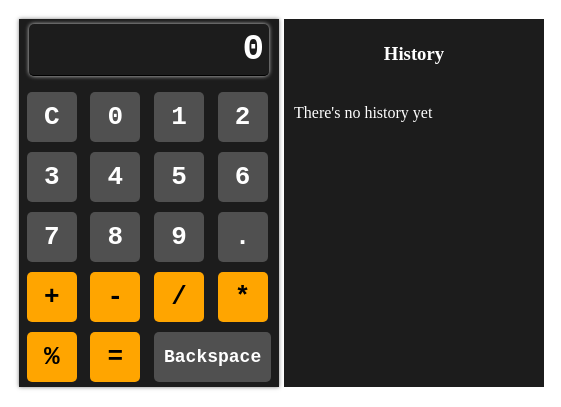
it: Clear Button
Click the button "1" at (179, 117), box [154,92,204,142]
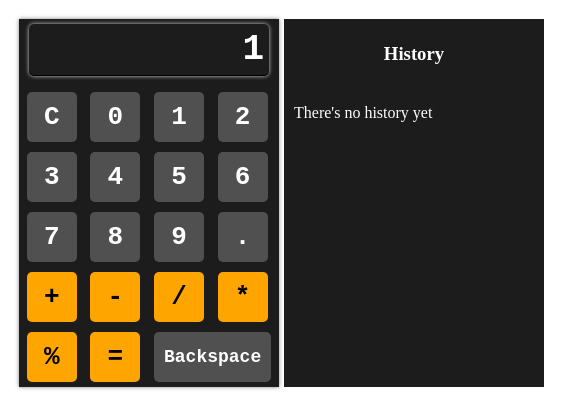
expect the text with test id "OutputScreen" reads "1": met, box [242,29,264,70]
Click the button "+" at (52, 297), box [27,272,77,322]
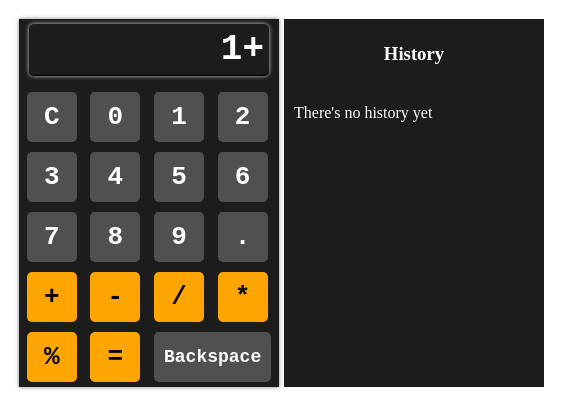
expect the text with test id "OutputScreen" reads "1+": met, box [221,29,264,70]
Click the button "2" at (243, 117), box [218,92,268,142]
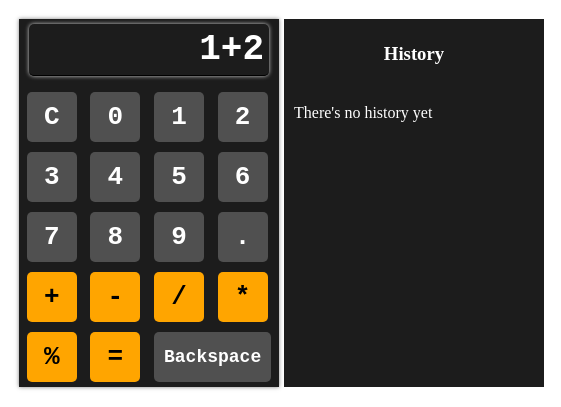
expect the text with test id "OutputScreen" reads "1+2": met, box [199,29,264,70]
Click the button "C" at (52, 117), box [27,92,77,142]
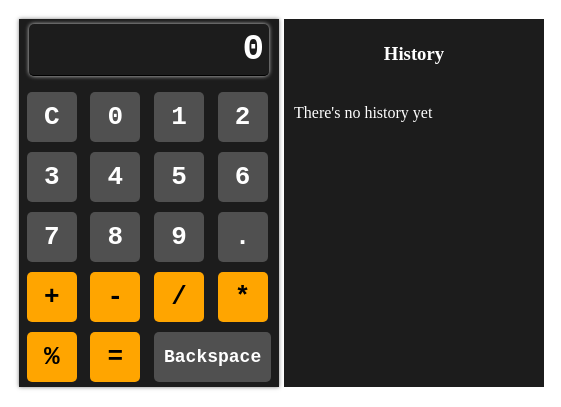
expect the text with test id "OutputScreen" reads "0": met, box [242,29,264,70]
